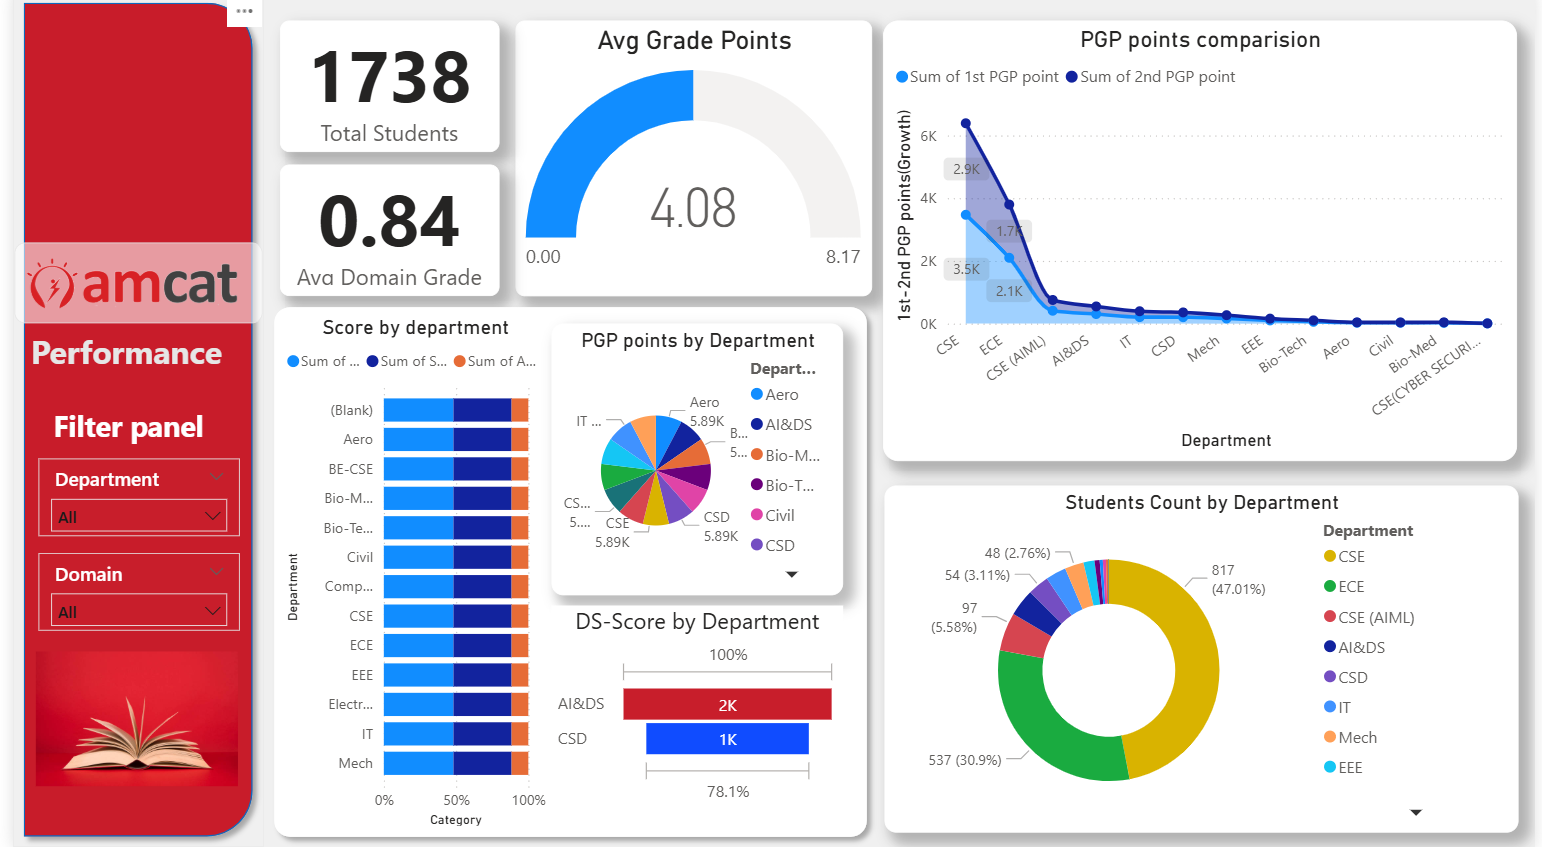

This screenshot's page, from the dashboard's own definition file:
{"tool":"powerbi","page":{"name":"Page 1","canvas":[1280,720],"ordinal":0},"visuals":[{"type":"gauge","fields":{"Y":["Sheet1.Avg Grade Points"]},"box":[422.5,24.2,299.8,231.7],"z":0},{"type":"shape","box":[0,0,210.5,719.2],"z":1000},{"type":"textbox","box":[10.6,278.6,192.3,51.5],"z":2000},{"type":"image","box":[1.5,210.5,209,68.1],"z":3000},{"type":"card","fields":{"Values":["Sheet1.Total Students"]},"box":[224.1,24.2,184.7,110.5],"z":4000},{"type":"card","fields":{"Values":["Sheet1.Avg Domain Grade"]},"box":[224.1,145.4,184.7,110.5],"z":5000},{"type":"shape","box":[210.5,255.9,516.3,463.3],"z":6000},{"type":"hundredPercentStackedBarChart","title":"Score by department","fields":{"Y":["Sum(Sheet1.WriteX_Total Score)","Sum(Sheet1.SVAR score)","Sum(Sheet1.Automata(Score))"],"Category":["Sheet1 (2).tag2"]},"box":[224.7,271.2,228.5,435.1],"z":7000},{"type":"donutChart","fields":{"Category":["Sheet1.Department"],"Y":["Sheet1.Students Count"]},"box":[733.3,415.2,533,292.2],"z":8000},{"type":"pieChart","title":"PGP points by Department","fields":{"Y":["Sum(Sheet1 (2).PGP points)"],"Category":["Sheet1.Department"]},"box":[452.7,278.6,245.3,228.6],"z":9000},{"type":"stackedAreaChart","title":"PGP points comparision","fields":{"Y":["Sum(Sheet1.1st PGP point)","Sum(Sheet1.2nd PGP point)"],"Category":["Sheet1.Department"]},"box":[731.4,24.2,533,371],"z":10000},{"type":"funnel","title":"DS-Score by Department","fields":{"Category":["Sheet1.Department"],"Y":["Sum(Sheet1.Data Science(Score))"]},"box":[452.7,516.3,245.3,169.6],"z":11000},{"type":"image","box":[18.2,24.2,175.6,172.6],"z":12000},{"type":"slicer","fields":{"Values":["Sheet1.Department"]},"box":[21.2,392.2,169.6,65.1],"z":13000},{"type":"slicer","fields":{"Values":["Sheet1 (2).Domain"]},"box":[21.2,472.4,169.6,65.1],"z":14000},{"type":"textbox","box":[28.8,343.7,156,51.5],"z":15000},{"type":"image","box":[13.6,516.3,180.2,190.8],"z":16000}]}

Visuals, with their boxes in screenshot pixels (x1, y1, x2, y2), scaled from the page's 1280x720 canvas onto the 1542x847 screenshot:
gauge - Sheet1.Avg Grade Points: {"x1": 509, "y1": 28, "x2": 870, "y2": 301}
shape: {"x1": 0, "y1": 0, "x2": 254, "y2": 846}
textbox: {"x1": 13, "y1": 328, "x2": 244, "y2": 388}
image: {"x1": 2, "y1": 248, "x2": 254, "y2": 328}
card - Sheet1.Total Students: {"x1": 270, "y1": 28, "x2": 492, "y2": 158}
card - Sheet1.Avg Domain Grade: {"x1": 270, "y1": 171, "x2": 492, "y2": 301}
shape: {"x1": 254, "y1": 301, "x2": 876, "y2": 846}
"Score by department" hundredPercentStackedBarChart: {"x1": 271, "y1": 319, "x2": 546, "y2": 831}
donutChart - Sheet1.Department x Sheet1.Students Count: {"x1": 883, "y1": 488, "x2": 1525, "y2": 832}
"PGP points by Department" pieChart: {"x1": 545, "y1": 328, "x2": 841, "y2": 597}
"PGP points comparision" stackedAreaChart: {"x1": 881, "y1": 28, "x2": 1523, "y2": 465}
"DS-Score by Department" funnel: {"x1": 545, "y1": 607, "x2": 841, "y2": 807}
image: {"x1": 22, "y1": 28, "x2": 233, "y2": 232}
slicer - Sheet1.Department: {"x1": 26, "y1": 461, "x2": 230, "y2": 538}
slicer - Sheet1 (2).Domain: {"x1": 26, "y1": 556, "x2": 230, "y2": 632}
textbox: {"x1": 35, "y1": 404, "x2": 223, "y2": 465}
image: {"x1": 16, "y1": 607, "x2": 233, "y2": 832}
